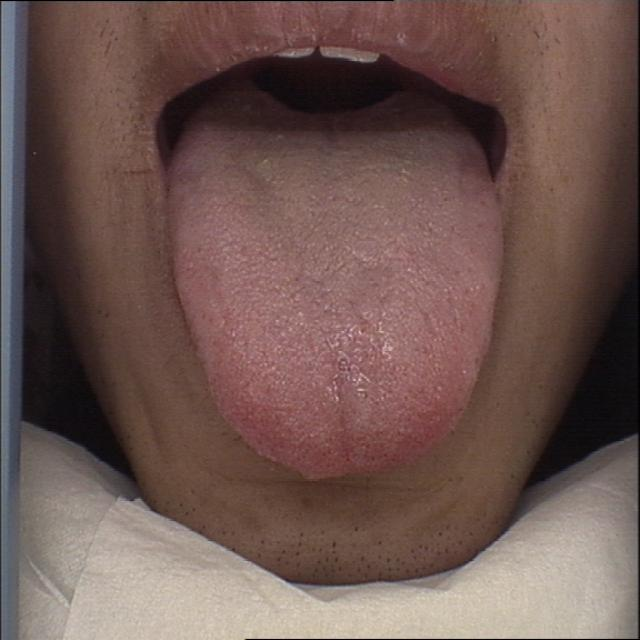tongue: (165, 95, 513, 488)
